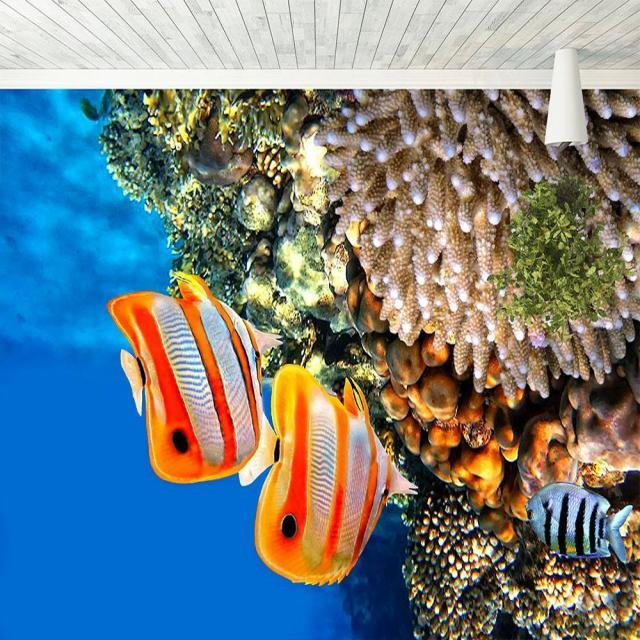ButterflyFish: (236, 358, 424, 614), (110, 270, 280, 490), (517, 467, 630, 583)
